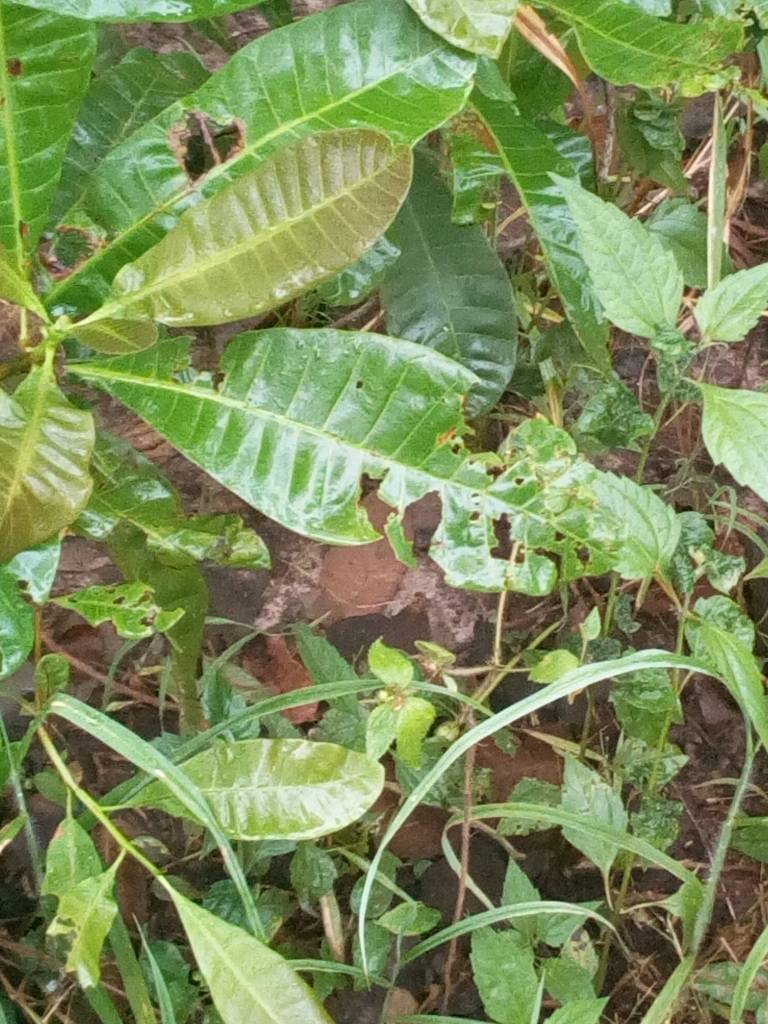Anoplonemis curvipes: (79, 324, 705, 600), (30, 1, 535, 299)
